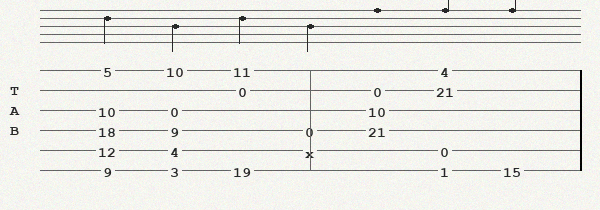0: (170, 104, 183, 117), (238, 84, 251, 97), (305, 124, 318, 137), (373, 84, 386, 97), (440, 144, 453, 157)
1: (440, 164, 453, 177)
10: (98, 104, 120, 117), (166, 64, 188, 77), (368, 104, 390, 117)
11: (233, 64, 255, 77)
12: (98, 144, 120, 157)
15: (503, 164, 525, 177)
18: (98, 124, 120, 137)
19: (233, 164, 255, 177)
21: (368, 124, 390, 137), (436, 84, 458, 97)
3: (170, 164, 183, 177)
4: (170, 144, 183, 157), (440, 64, 453, 77)
5: (103, 64, 116, 77)
9: (103, 164, 116, 177), (170, 124, 183, 137)
x: (305, 145, 318, 155)
